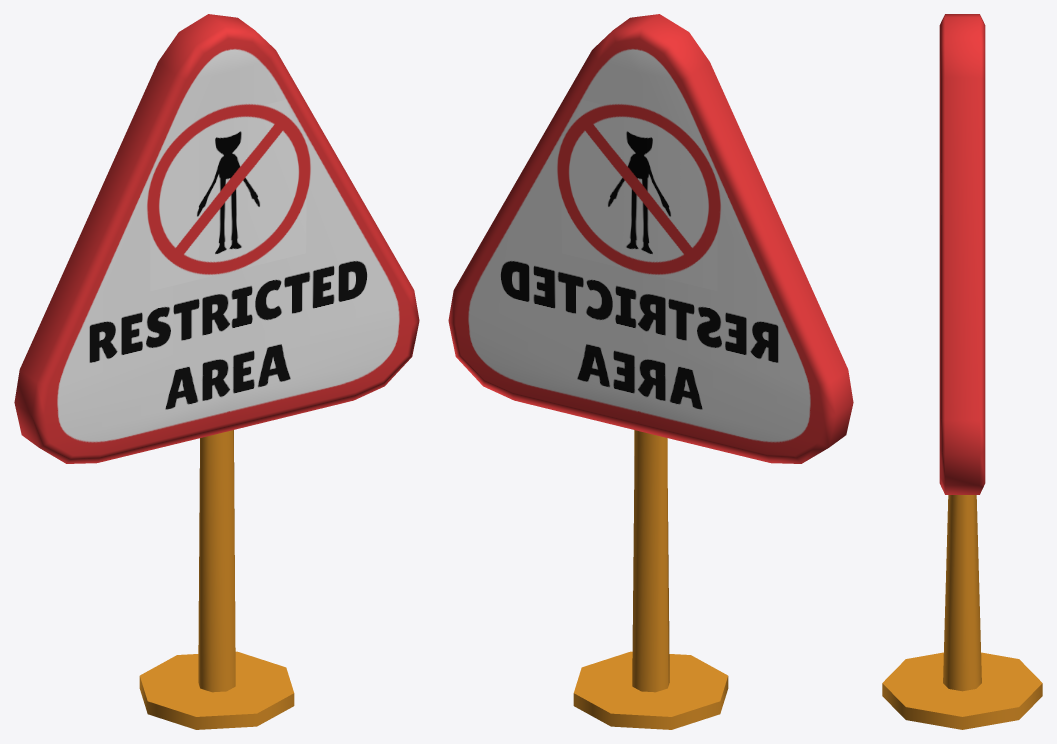
Rendered from restricted_area_mesh.fbx.
3 renders of one model, left to right at view 1: azimuth 30°, elevation 25°; view 2: azimuth 150°, elevation 25°; view 3: azimuth 270°, elevation 25°, orthographic.
Parts seen in each view (by area): view 1: restricted_area_mesh; view 2: restricted_area_mesh; view 3: restricted_area_mesh.
Boxes of the visible parts, box(x1,y1,x2,y2) form: restricted_area_mesh: box(14, 14, 419, 729); restricted_area_mesh: box(448, 14, 853, 729); restricted_area_mesh: box(882, 14, 1042, 729).
Size of the model in its own units: 1.03 by 1.71 by 0.367.
